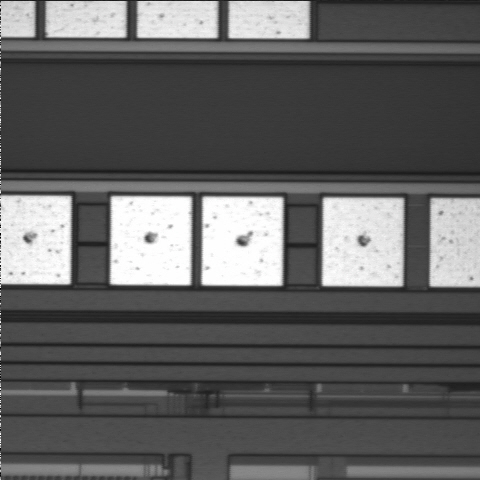pad: (110, 196, 192, 285), (322, 198, 404, 286), (202, 197, 283, 286)
